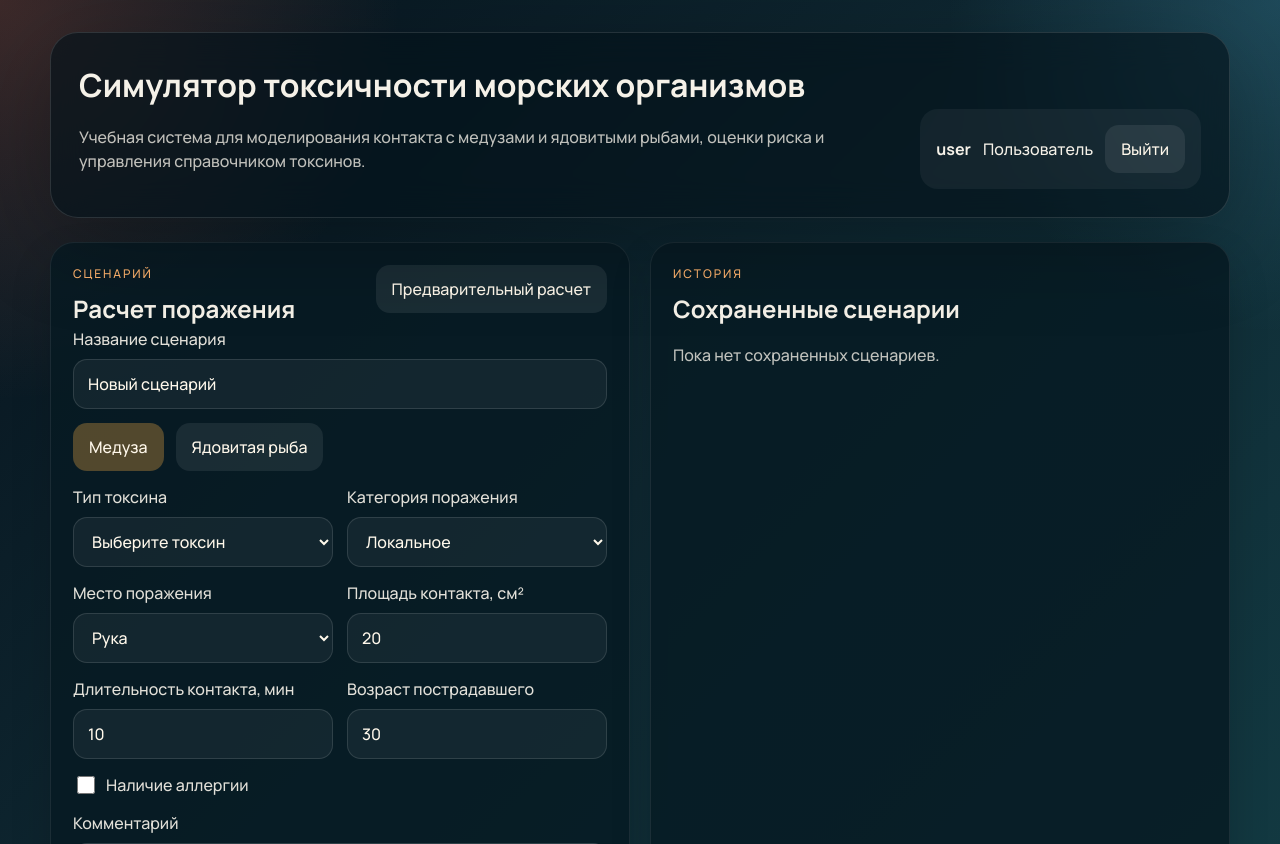
Test: App › shows scenario error when preview fails
This screenshot has width=1280, height=844.
Click the button "Предварительный расчет": [491, 289] box left=376, top=265, right=607, bottom=313
(page scrolled)
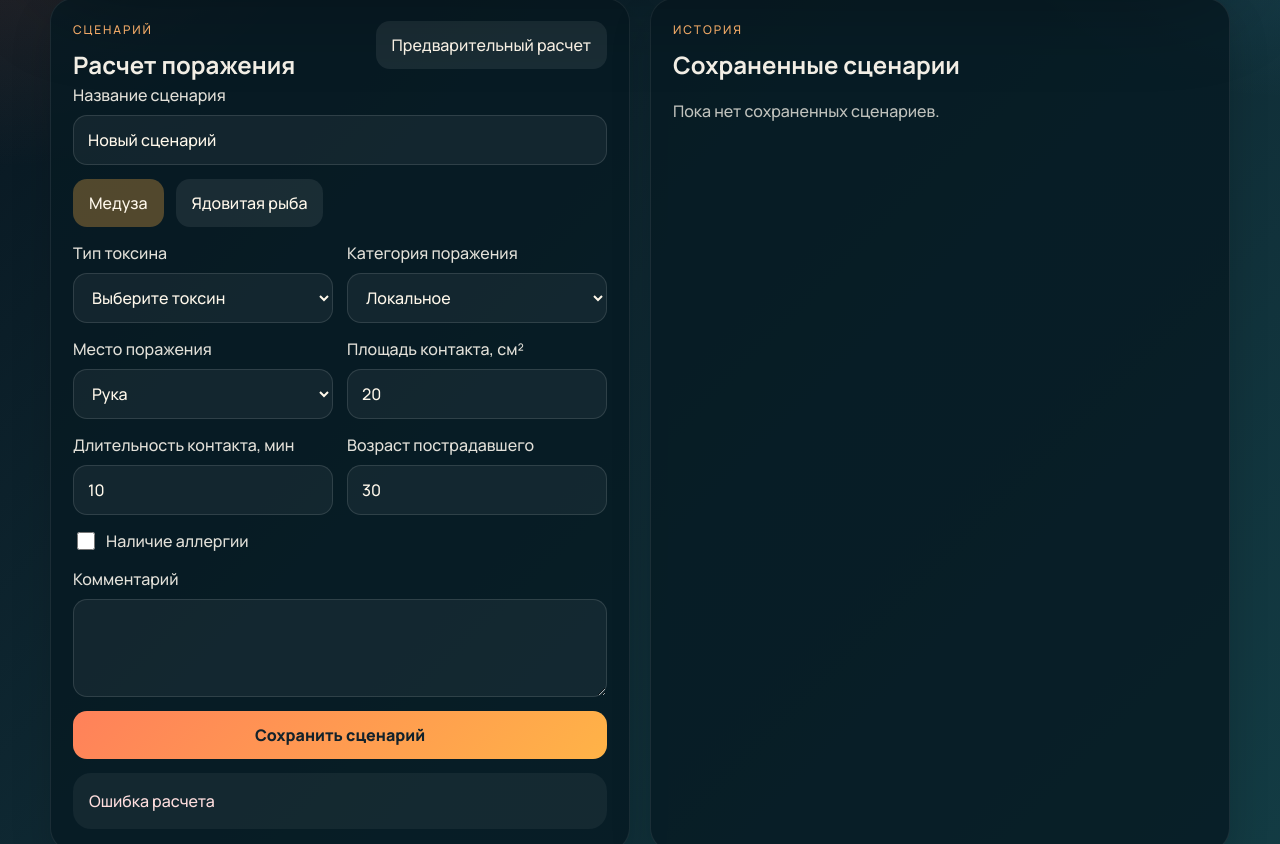
Check: the text "Ошибка расчета" is shown, box left=73, top=773, right=607, bottom=829
